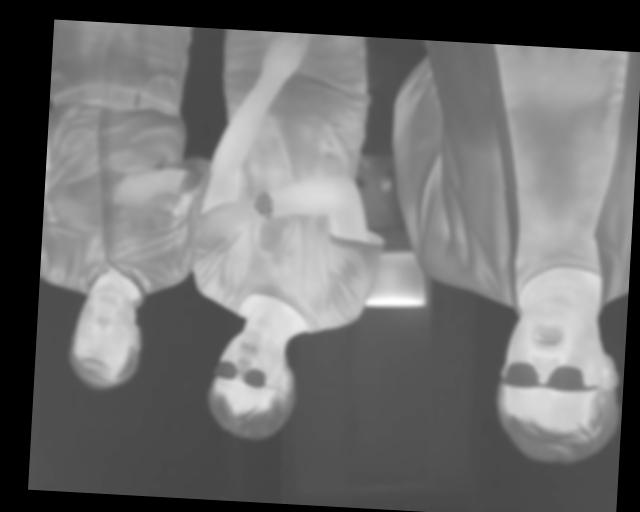face: (492, 295, 624, 468), (202, 328, 298, 444), (66, 282, 145, 392)
